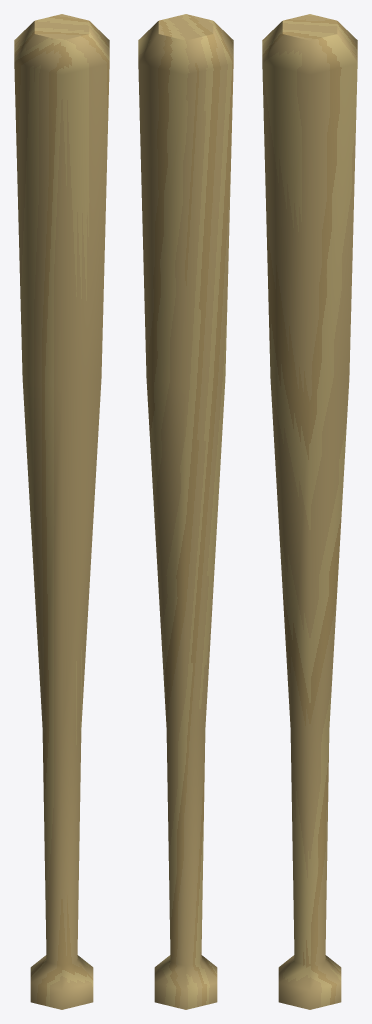
The model's file is 0273_Baseball_Bat.glb.
3 renders of one model, left to right at view 1: azimuth 90°, elevation 25°; view 2: azimuth 210°, elevation 25°; view 3: azimuth 270°, elevation 25°, orthographic.
Visible parts, largest first — view 1: part_0; view 2: part_0; view 3: part_0.
Part boxes in pixels (x1,y1,x2,y2): part_0: [14, 14, 109, 1009]; part_0: [138, 14, 233, 1009]; part_0: [262, 14, 357, 1009].
Bounding box in the file's own units: 0.1032 × 1 × 0.0894.
Materials: 1 (1 with a texture image).
